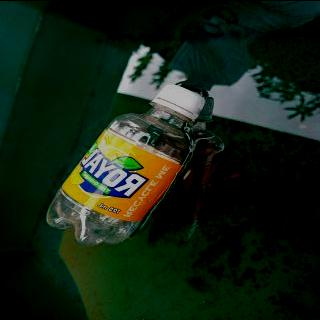bottle: (40, 82, 212, 246)
